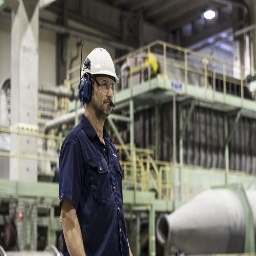helmet: (79, 47, 122, 88)
no-vest: (63, 117, 133, 256)
person: (60, 47, 132, 256)
